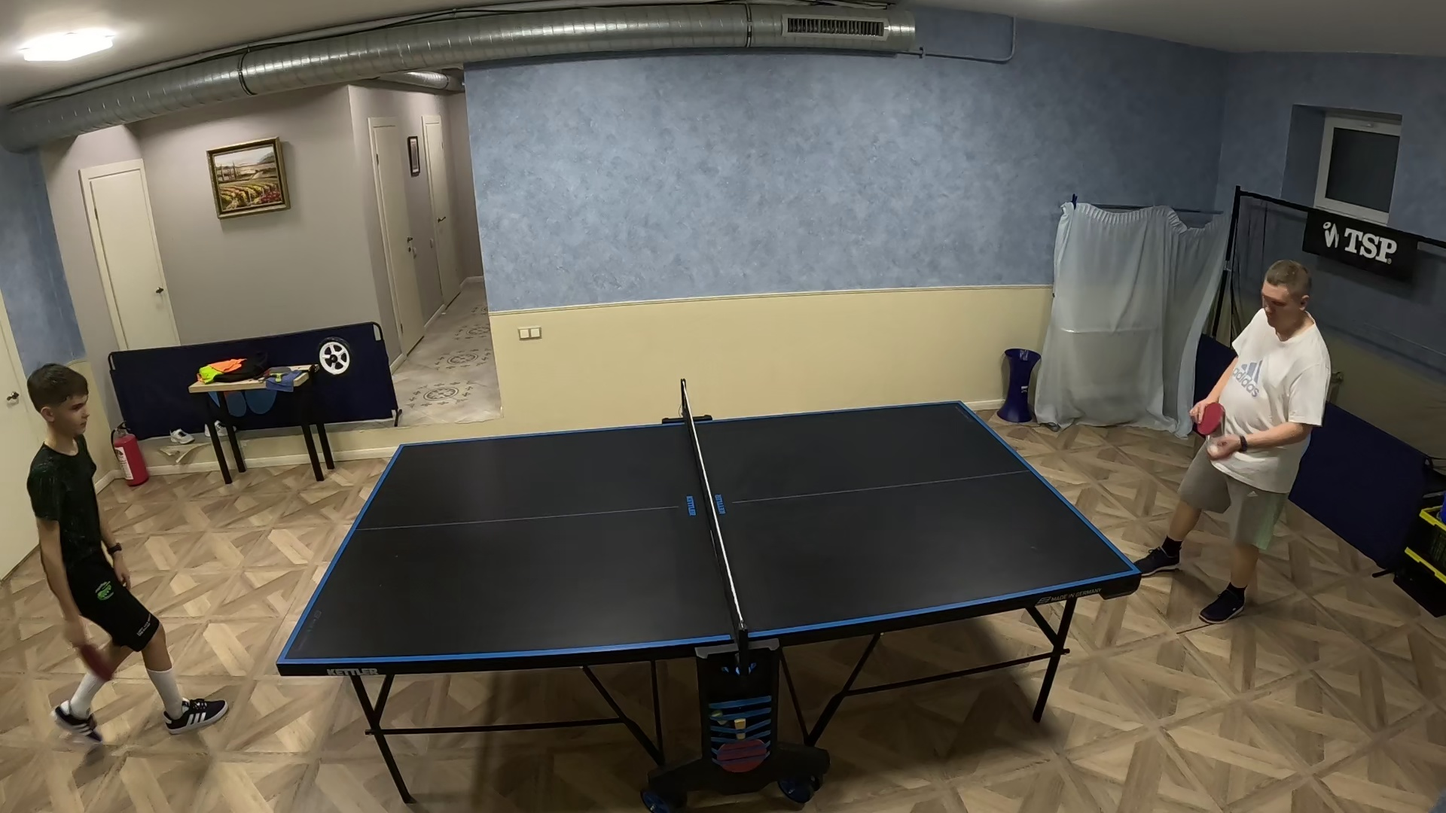Ball: (1211, 445, 1218, 453)
